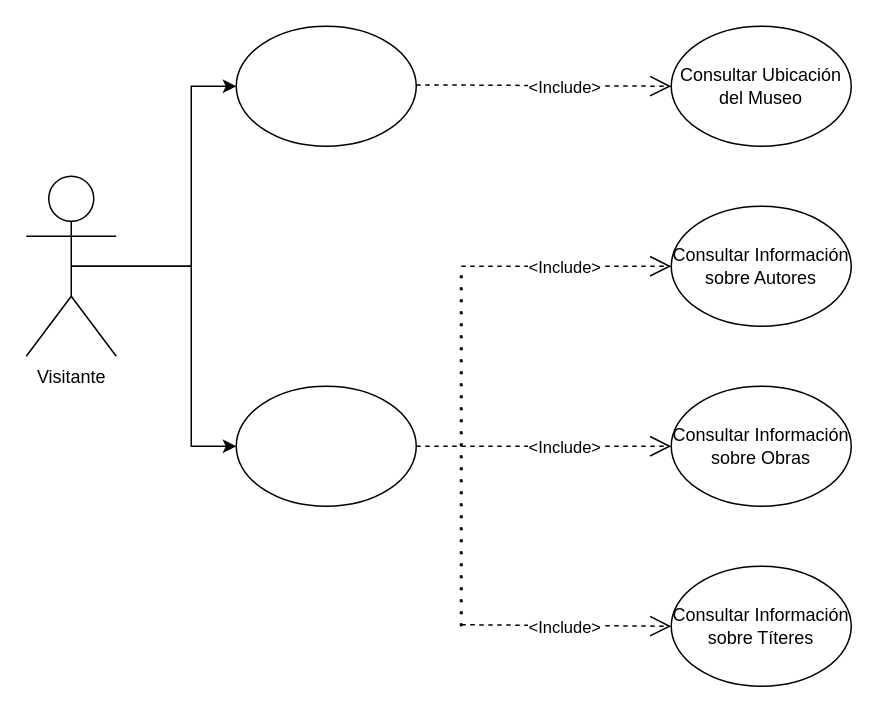
Some shapes in this 878 by 713 pixel diagram are drawn without their labels. The box of each missing label's shape, as (x1, y1, x2, y2) in pixels:
Consultar Contactos del Museo: (235, 25, 416, 146)
Consultar Información sobre Galería: (235, 385, 416, 506)
